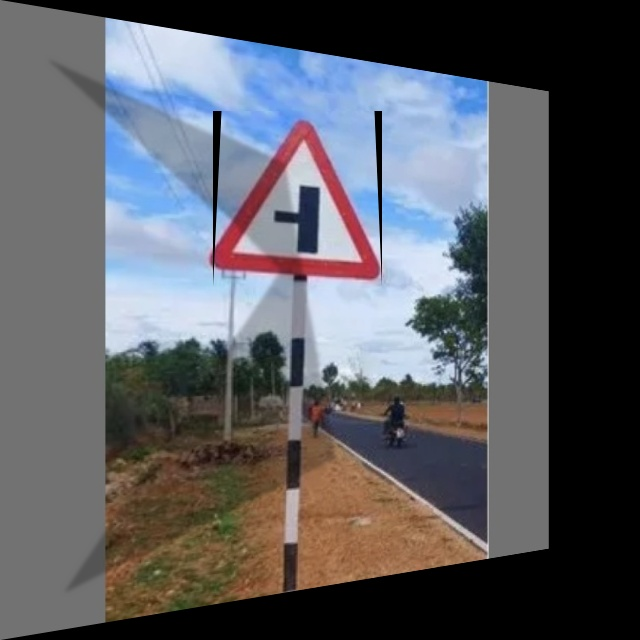Side_Road_Left: (213, 111, 382, 287)
